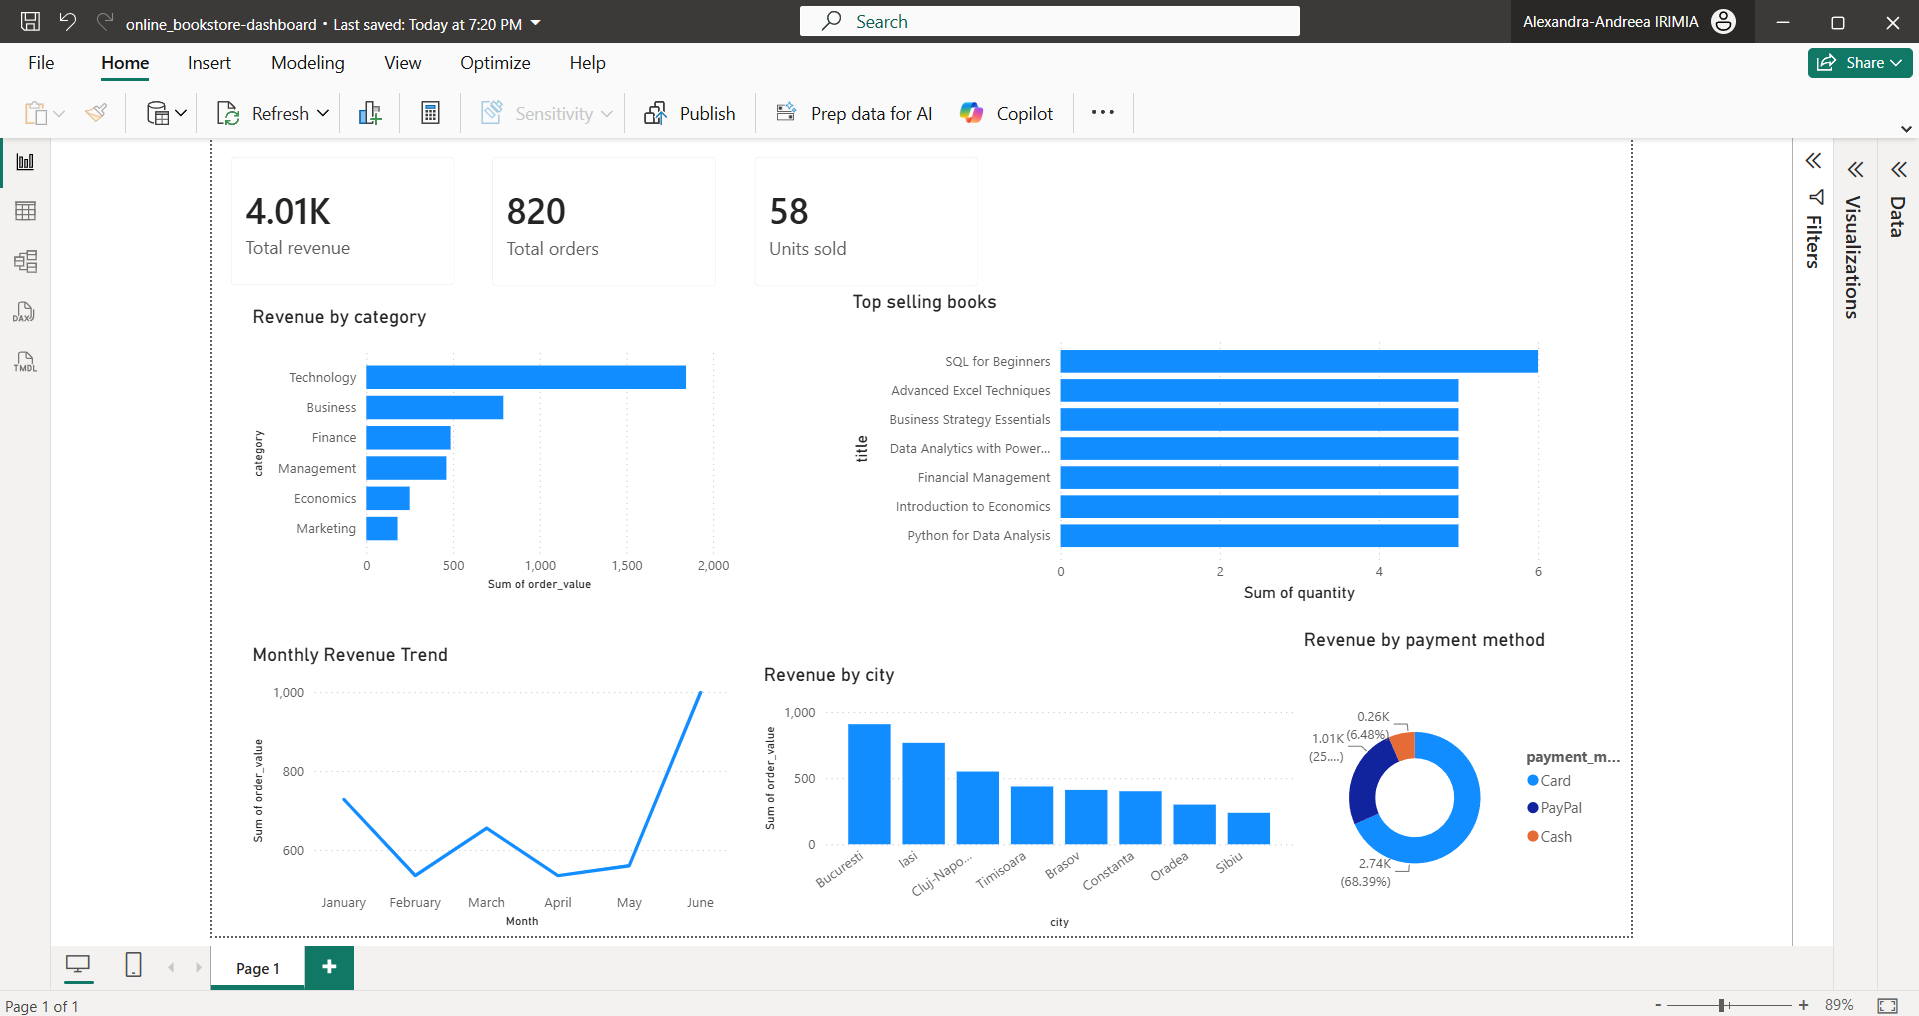

The dashboard page shown, as its layout file describes it:
{"tool":"powerbi","page":{"name":"Page 1","canvas":[1280,720],"ordinal":0},"visuals":[{"type":"cardVisual","title":"Total revenue","fields":{"Data":["Sum(public orders.order_value)"]},"box":[0,0,236,150.9],"z":0},{"type":"cardVisual","fields":{"Data":["Sum(public orders.order_id)"]},"box":[236,0,236,151],"z":1},{"type":"cardVisual","fields":{"Data":["Sum(public orders.quantity)"]},"box":[472,0,236,151],"z":2},{"type":"cardVisual","fields":{"Data":["Sum(public orders.order_value)"]},"box":[691.6,0,236,151],"z":3},{"type":"clusteredBarChart","title":"Revenue by category","fields":{"Category":["public books.category"],"Y":["Sum(public orders.order_value)"]},"box":[31.6,150.9,440.5,262.1],"z":4},{"type":"hundredPercentStackedBarChart","title":"Top selling books","fields":{"Category":["public books.title"],"Y":["Sum(public orders.quantity)"]},"box":[492.6,150.9,581.8,290.9],"z":5},{"type":"lineChart","title":"Monthly Revenue Trend","fields":{"Category":["public orders.order_date.Variation.Date Hierarchy.Year","public orders.order_date.Variation.Date Hierarchy.Quarter","public orders.order_date.Variation.Date Hierarchy.Month","public orders.order_date.Variation.Date Hierarchy.Day"],"Y":["Sum(public orders.order_value)"]},"box":[32,455.5,440,262],"z":6},{"type":"columnChart","title":"Revenue by city","fields":{"Category":["public customers.city"],"Y":["Sum(public orders.order_value)"]},"box":[492.6,473.4,487.1,244.3],"z":7},{"type":"donutChart","title":"Revenue by payment method","fields":{"Category":["public orders.payment_method"],"Y":["Sum(public orders.order_value)"]},"box":[979.8,441.9,300.5,275.8],"z":8}]}

Visuals, with their boxes on the page's 1280x720 design canvas (x1, y1, x2, y2). These are canvas units, not pixel positions in the 1919x1016 screenshot, which may show the page scaled, cropped or inside an application window:
"Total revenue" cardVisual: {"x1": 0, "y1": 0, "x2": 236, "y2": 151}
cardVisual - Sum(public orders.order_id): {"x1": 236, "y1": 0, "x2": 472, "y2": 151}
cardVisual - Sum(public orders.quantity): {"x1": 472, "y1": 0, "x2": 708, "y2": 151}
cardVisual - Sum(public orders.order_value): {"x1": 692, "y1": 0, "x2": 928, "y2": 151}
"Revenue by category" clusteredBarChart: {"x1": 32, "y1": 151, "x2": 472, "y2": 413}
"Top selling books" hundredPercentStackedBarChart: {"x1": 493, "y1": 151, "x2": 1074, "y2": 442}
"Monthly Revenue Trend" lineChart: {"x1": 32, "y1": 456, "x2": 472, "y2": 718}
"Revenue by city" columnChart: {"x1": 493, "y1": 473, "x2": 980, "y2": 718}
"Revenue by payment method" donutChart: {"x1": 980, "y1": 442, "x2": 1280, "y2": 718}
